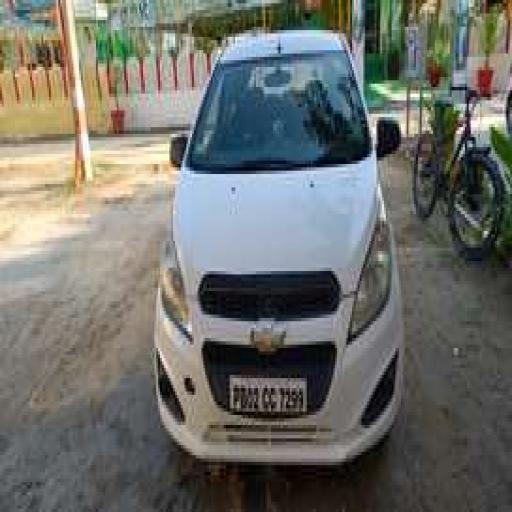license_plate`: (228, 372, 305, 408)
